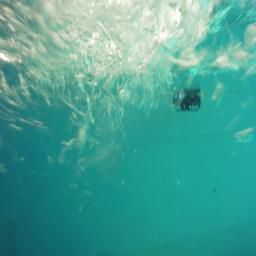Side: (173, 87, 202, 111)
front: (173, 89, 201, 112)
